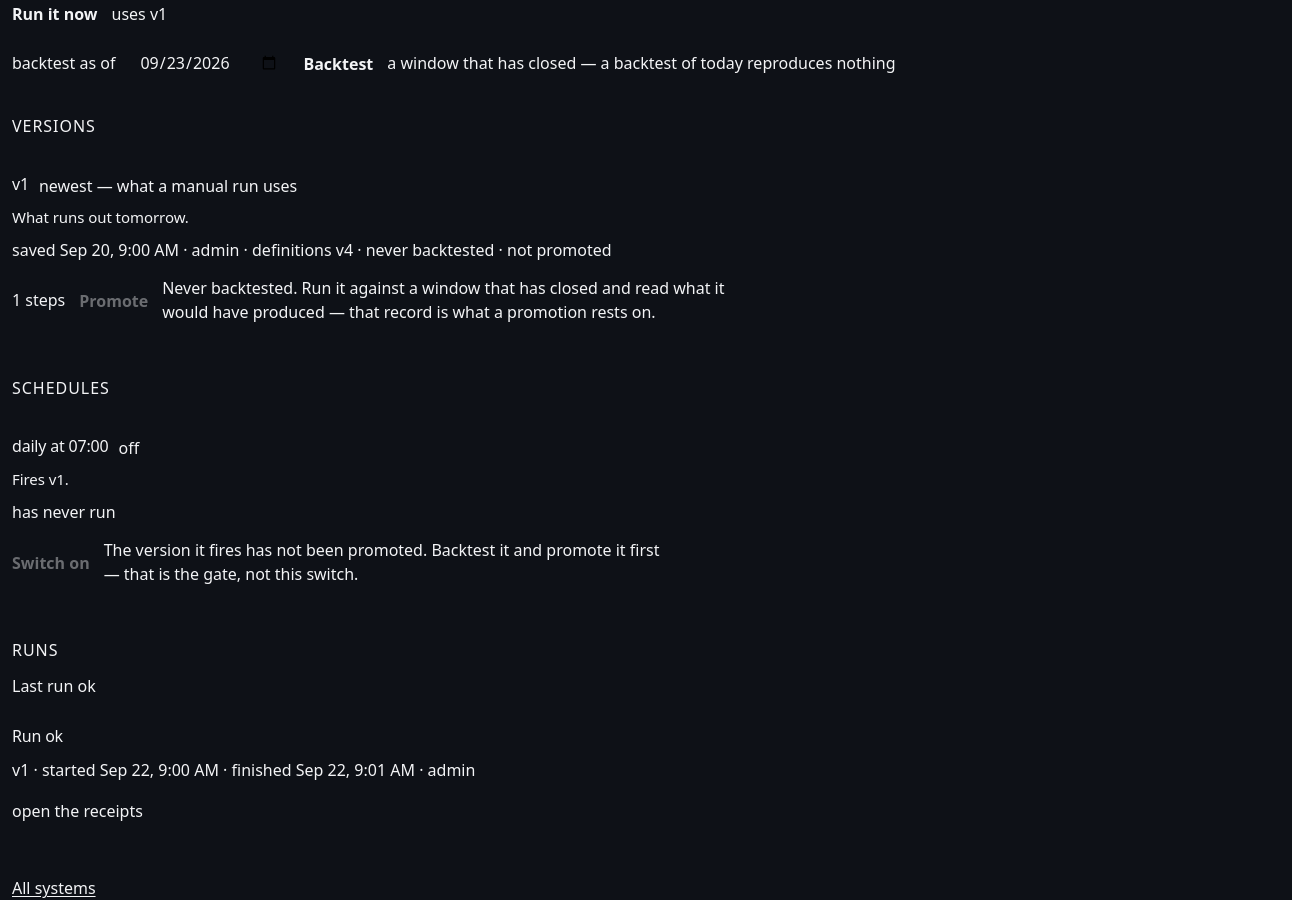
Test: the records, and the three renderings › opens a run and shows its steps
(page scrolled)
Click the button "open the receipts" at (77, 811), box 12,796 -> 143,826
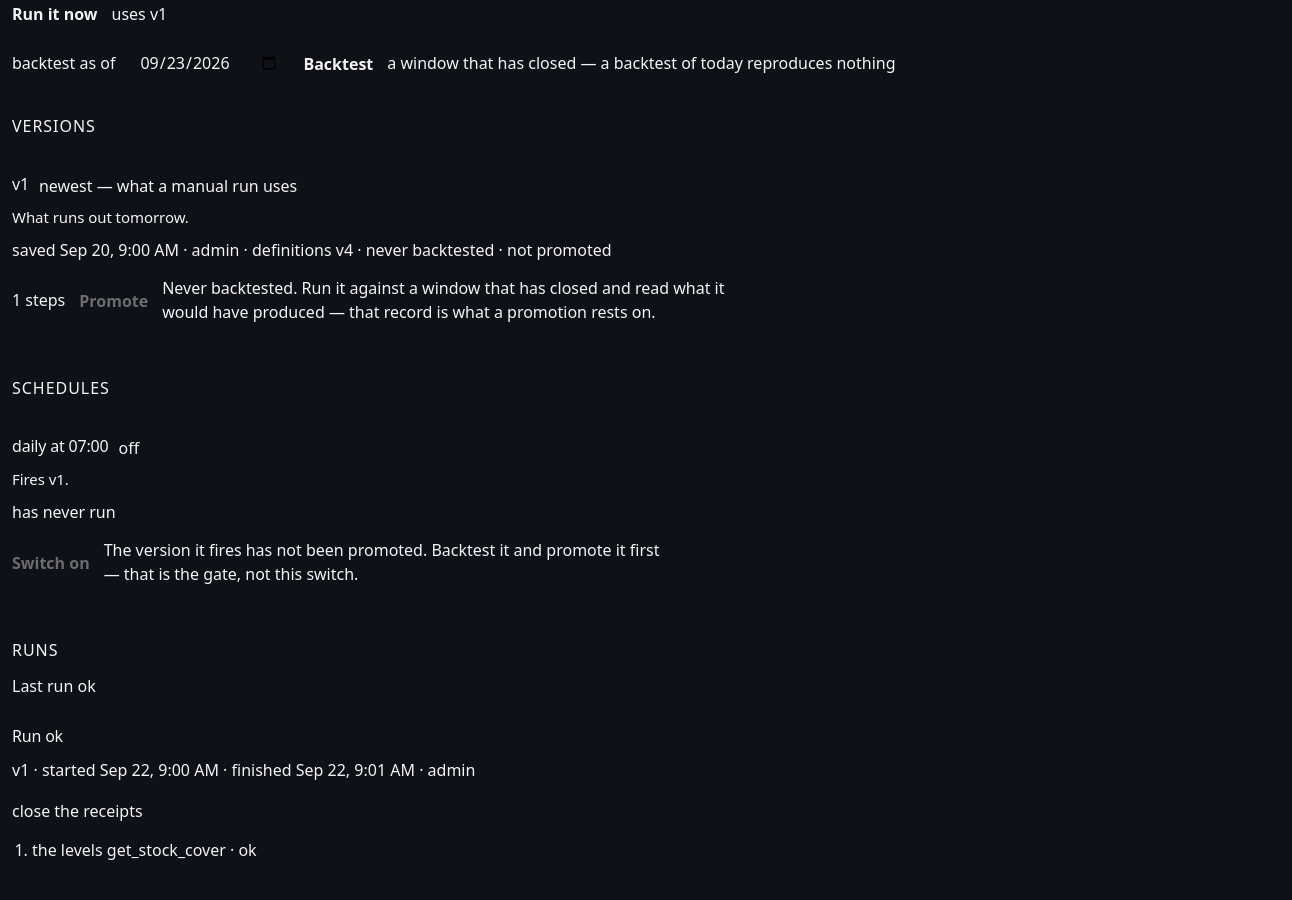
Expected: the text "the levels" is shown, 32,839 -> 103,861
